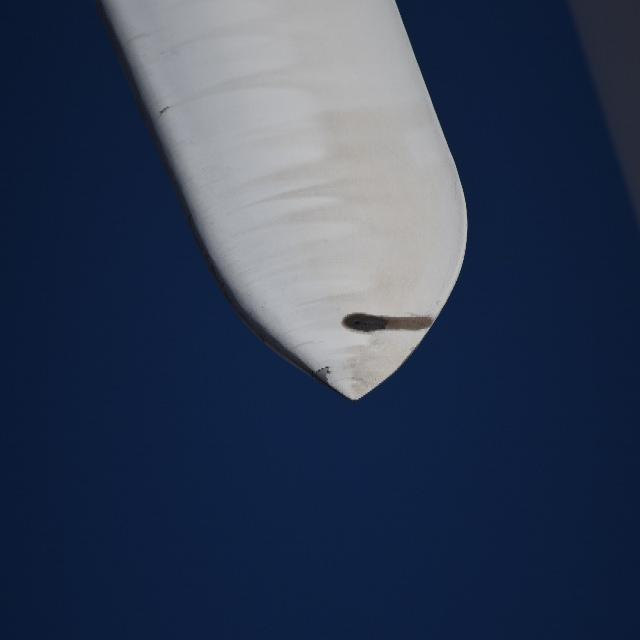Burn Mark: (339, 306, 436, 336)
Coating_defects: (314, 356, 332, 400), (151, 102, 178, 120)
